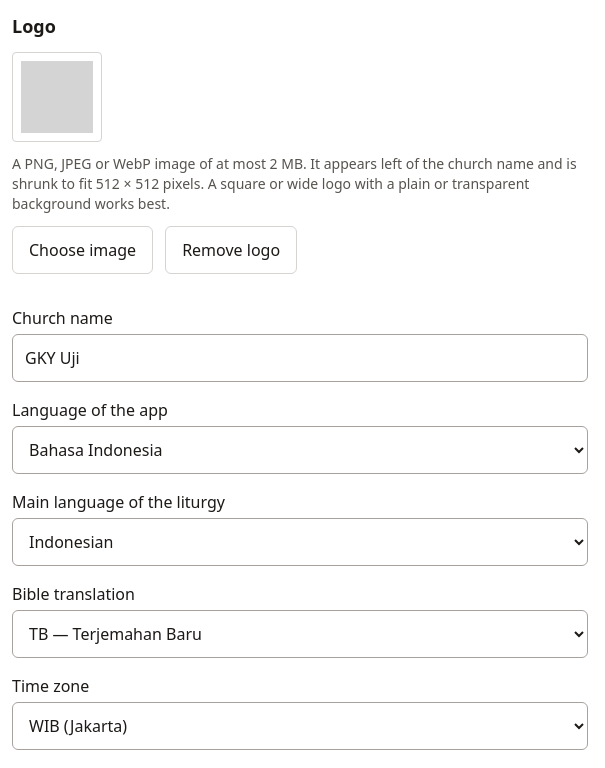
ChurchLogoSection › removes the logo
The image size is (605, 768).
Click the button "Remove logo" at (231, 250), box [165,226,297,274]
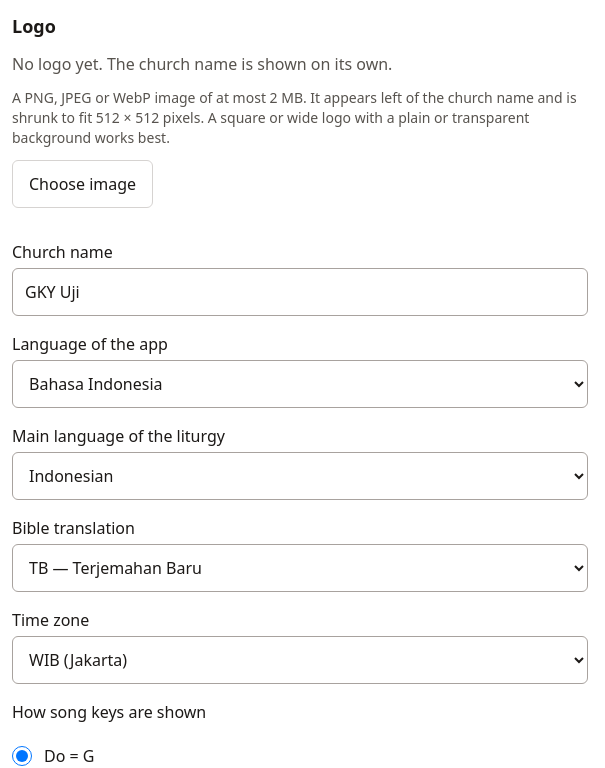
Now the text "No logo yet. The church name is shown on its own." is shown, box [12,53,392,75]
Now the button "Remove logo" is gone
